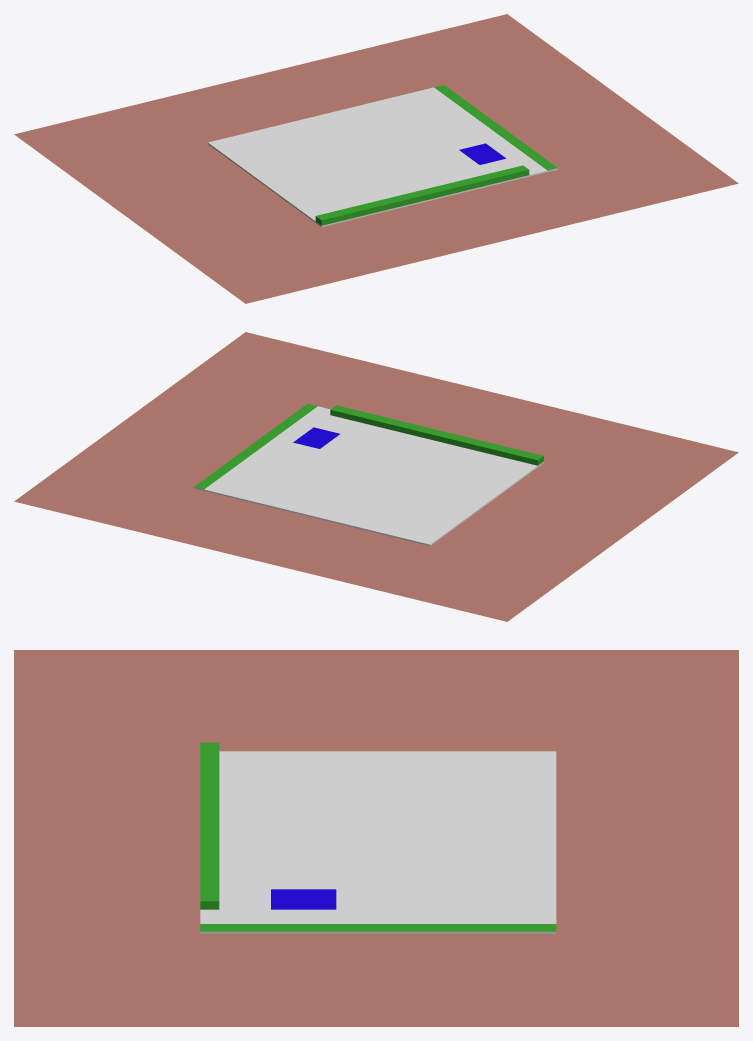
The model's file is Suelo_Externo.fbx.
The picture shows the model from 3 angles, top to bottom: view 1: azimuth 30°, elevation 25°; view 2: azimuth 150°, elevation 25°; view 3: azimuth 270°, elevation 25°; orthographic projection. The views are drawn at different scales.
Visible parts, largest first — view 1: Suelo Edificio; view 2: Suelo Edificio; view 3: Suelo Edificio.
Part boxes in pixels (<box>): Suelo Edificio: <box>14,14,738,303</box>; Suelo Edificio: <box>14,332,738,621</box>; Suelo Edificio: <box>14,650,738,1026</box>.
Bounding box in the file's own units: 132019 × 1771 × 107354.
